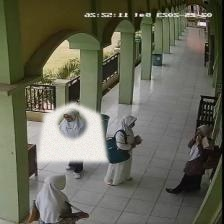Mukena: (37, 102, 107, 161)
